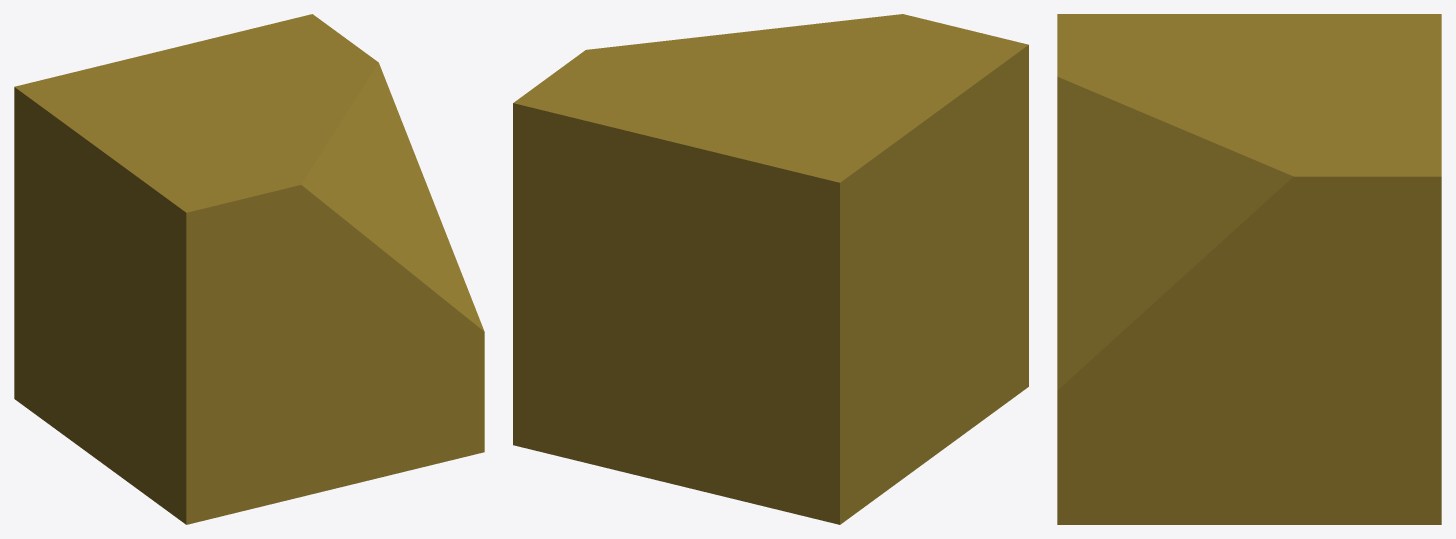
Rendered from rock.dae.
The picture shows the model from 3 angles, left to right: view 1: azimuth 30°, elevation 25°; view 2: azimuth 150°, elevation 25°; view 3: azimuth 270°, elevation 25°; orthographic projection. The views are drawn at different scales.
Parts seen in each view (by area): view 1: Cube; view 2: Cube; view 3: Cube.
Boxes of the visible parts, x1,y1,x2,y2 form: Cube: [14, 14, 484, 524]; Cube: [513, 14, 1028, 524]; Cube: [1057, 14, 1441, 524].
Bounding box in the file's own units: 2 × 2 × 2.
1 material, 1 textured.
